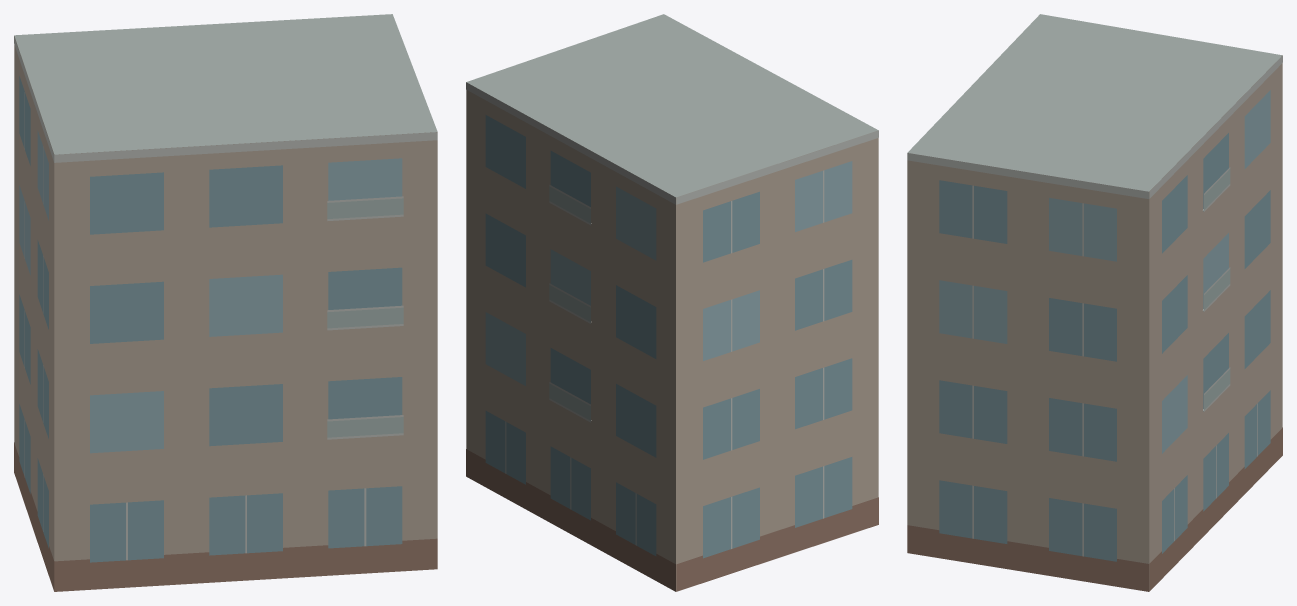
File: survey-upis-32810626.glb
3 renders of one model, left to right at view 1: azimuth 30°, elevation 25°; view 2: azimuth 150°, elevation 25°; view 3: azimuth 270°, elevation 25°, orthographic. The views are drawn at different scales.
Visible parts, largest first — view 1: survey-upis-32810626.tmp; view 2: survey-upis-32810626.tmp; view 3: survey-upis-32810626.tmp.
Boxes of the visible parts, x1=… form: survey-upis-32810626.tmp: x1=14, y1=14, x2=437, y2=591; survey-upis-32810626.tmp: x1=466, y1=14, x2=878, y2=591; survey-upis-32810626.tmp: x1=907, y1=14, x2=1282, y2=591.
Bounding box in the file's own units: 12.39 × 13 × 11.06.
